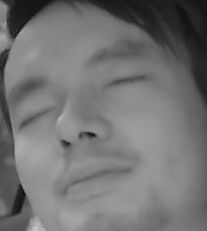blink: (19, 103, 57, 129), (106, 68, 143, 92)
mouth: (54, 155, 132, 200)
